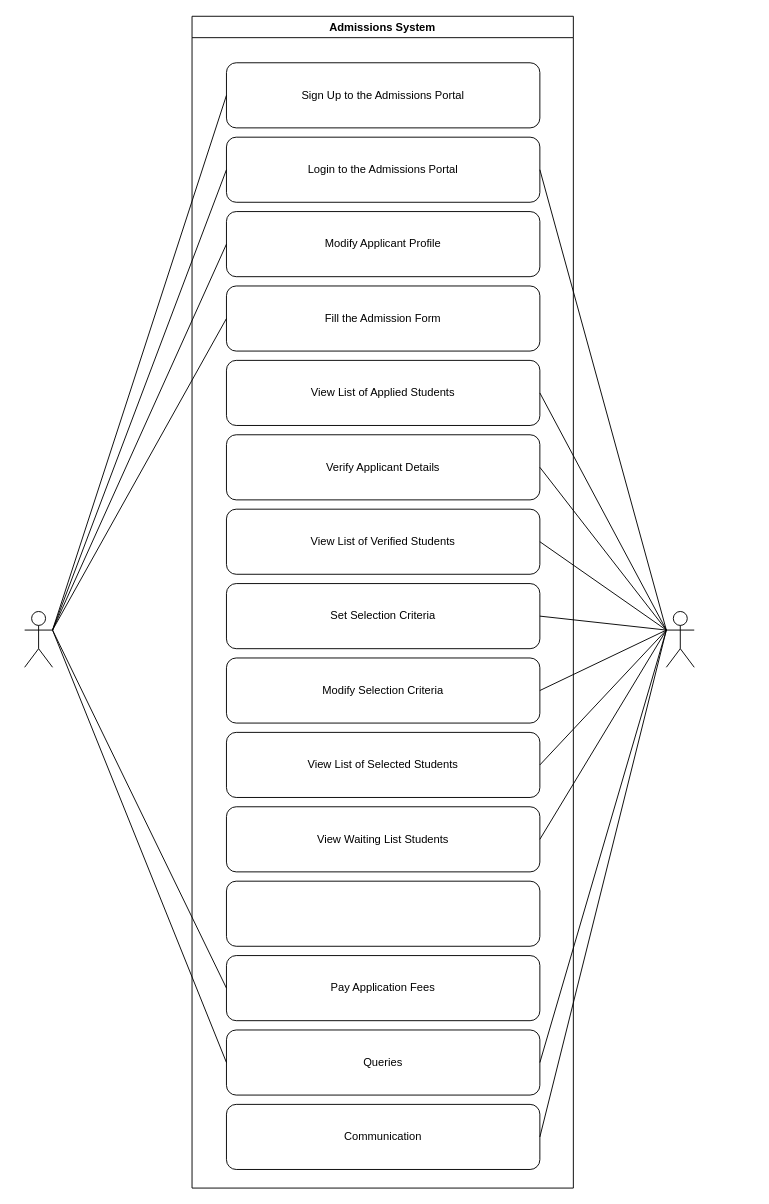
Some shapes in this 769 by 1204 pixel diagram are drawn without their labels. The shapes that lost their labels are listed below. From the top down, each one's centre as x and y in pixels, then its label:
At [38,639]: "Applicant".
At [679,639]: "Admissions Commitee/Admin".
At [383,913]: "Send Application Status Update Email (Automated)".
